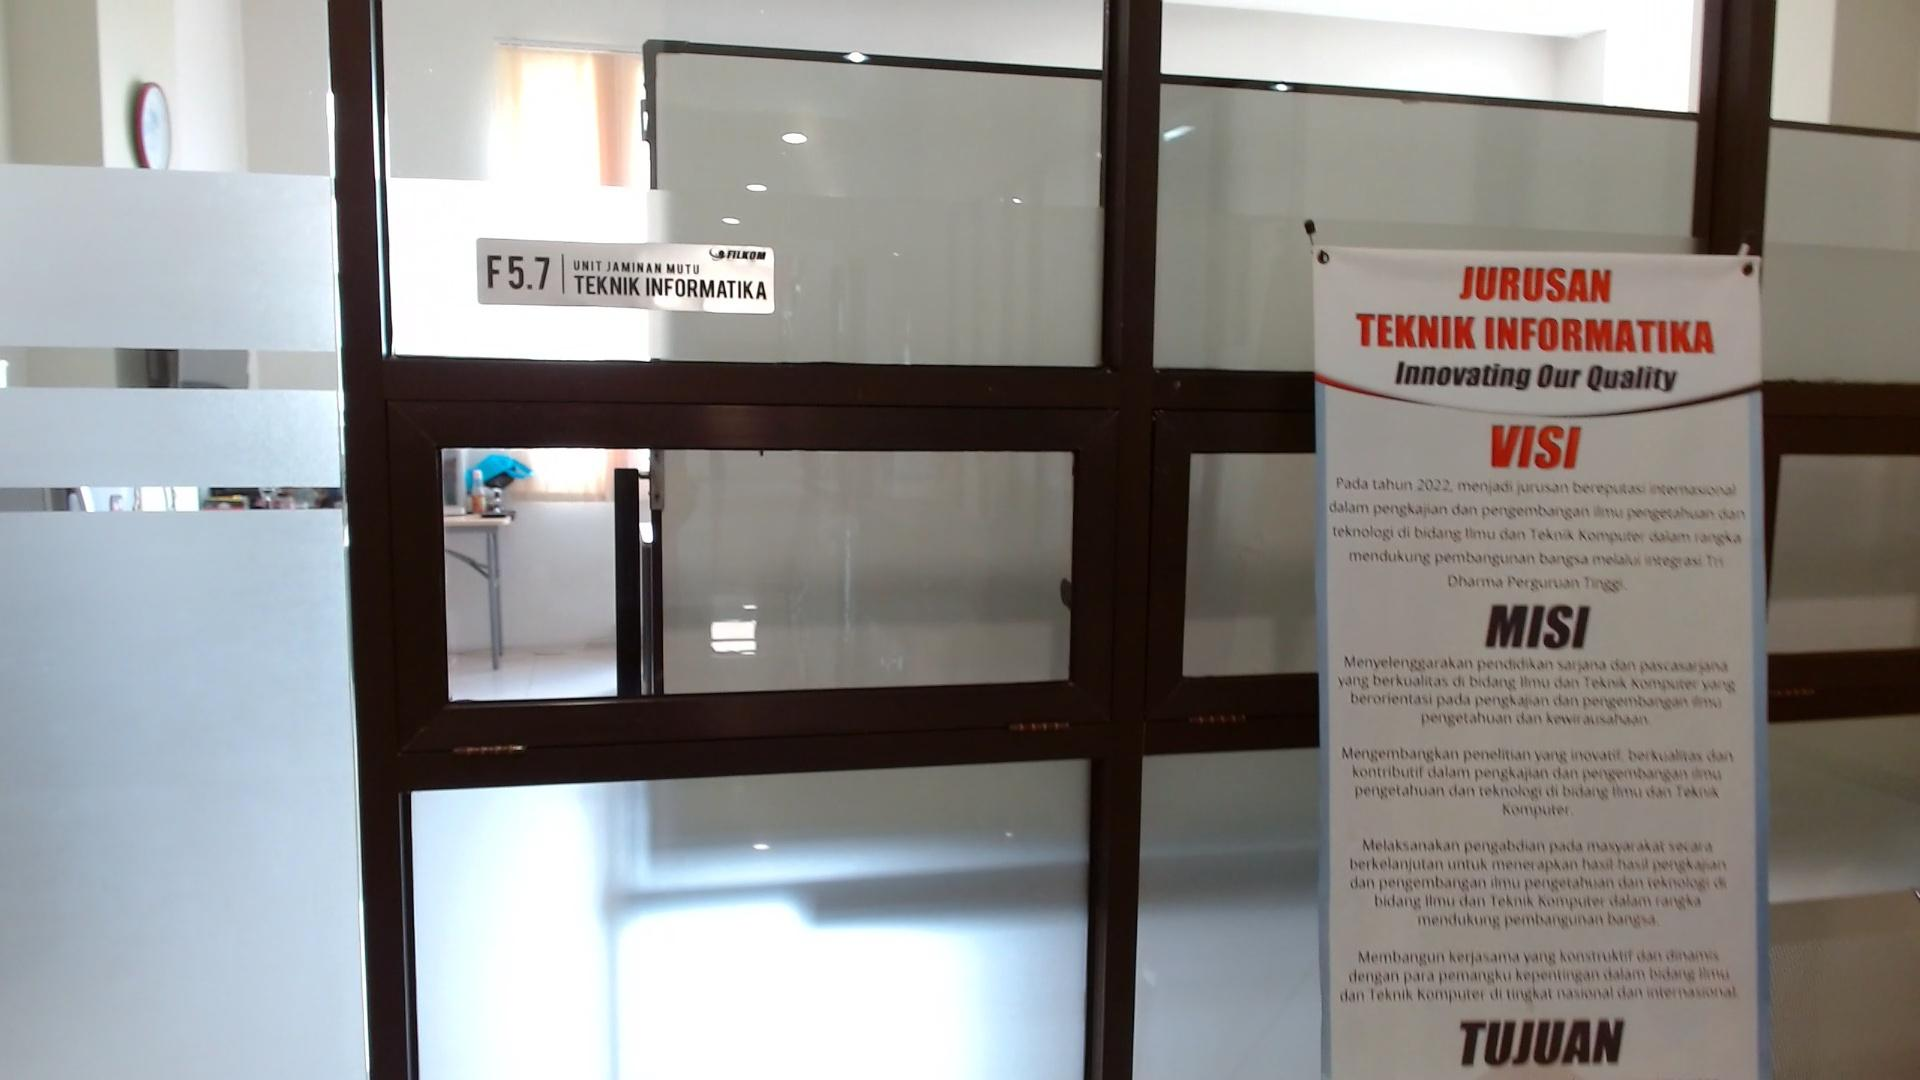plate: (476, 236, 775, 314)
